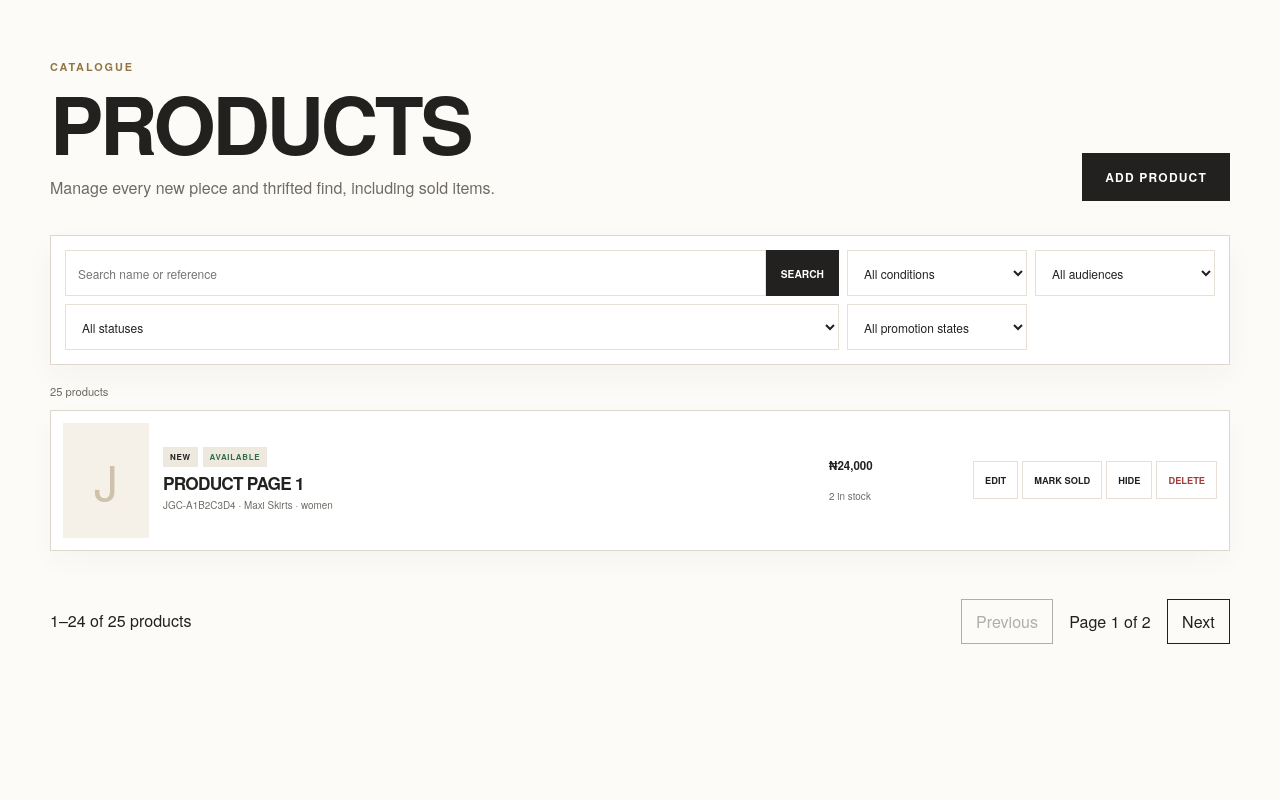
Test: loads later inventory pages and reports the displayed range
Expected: the text "1–24 of 25 products" is shown, [50,608,191,635]
Click the button "Next" at point(1198, 622), box [1167,599,1230,644]
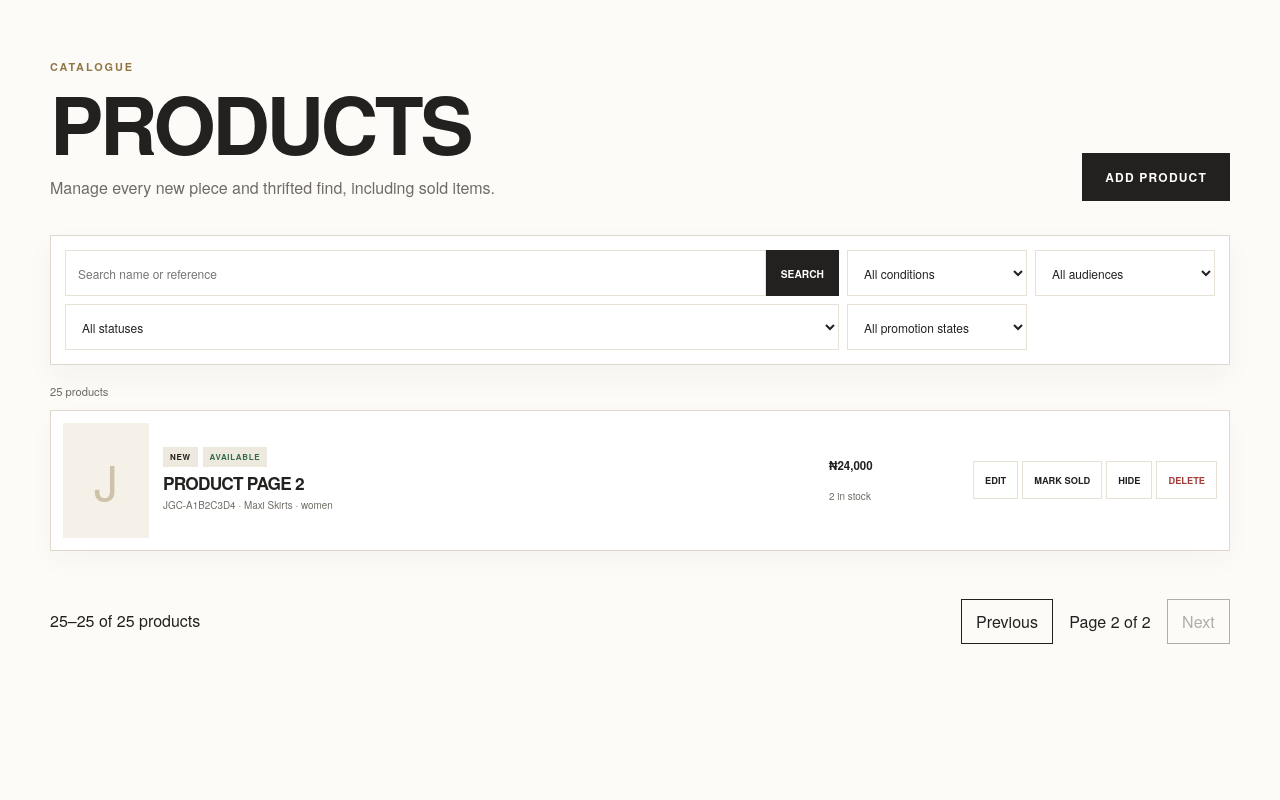
Expected: the heading "Product page 2" is shown, [163,471,304,495]
Expected: the text "25–25 of 25 products" is shown, [50,608,200,635]
